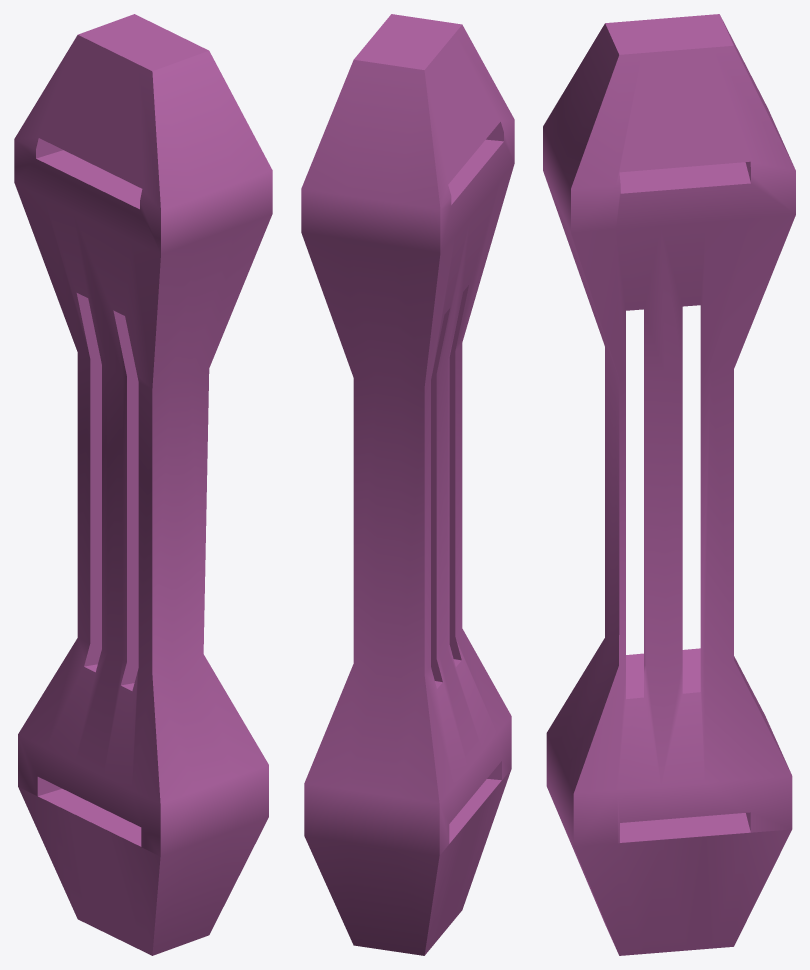
File: antiquePillar_3.fbx
The picture shows the model from 3 angles, left to right: view 1: azimuth 30°, elevation 25°; view 2: azimuth 150°, elevation 25°; view 3: azimuth 270°, elevation 25°; orthographic projection.
Visible parts, largest first — view 1: antiquePillar_3; view 2: antiquePillar_3; view 3: antiquePillar_3.
Part boxes in pixels (box(x1,y1,x2,y2)): antiquePillar_3: box(14, 14, 272, 955); antiquePillar_3: box(301, 14, 514, 955); antiquePillar_3: box(543, 14, 795, 955).
Bounding box in the file's own units: 9.18 × 48.04 × 12.22.
